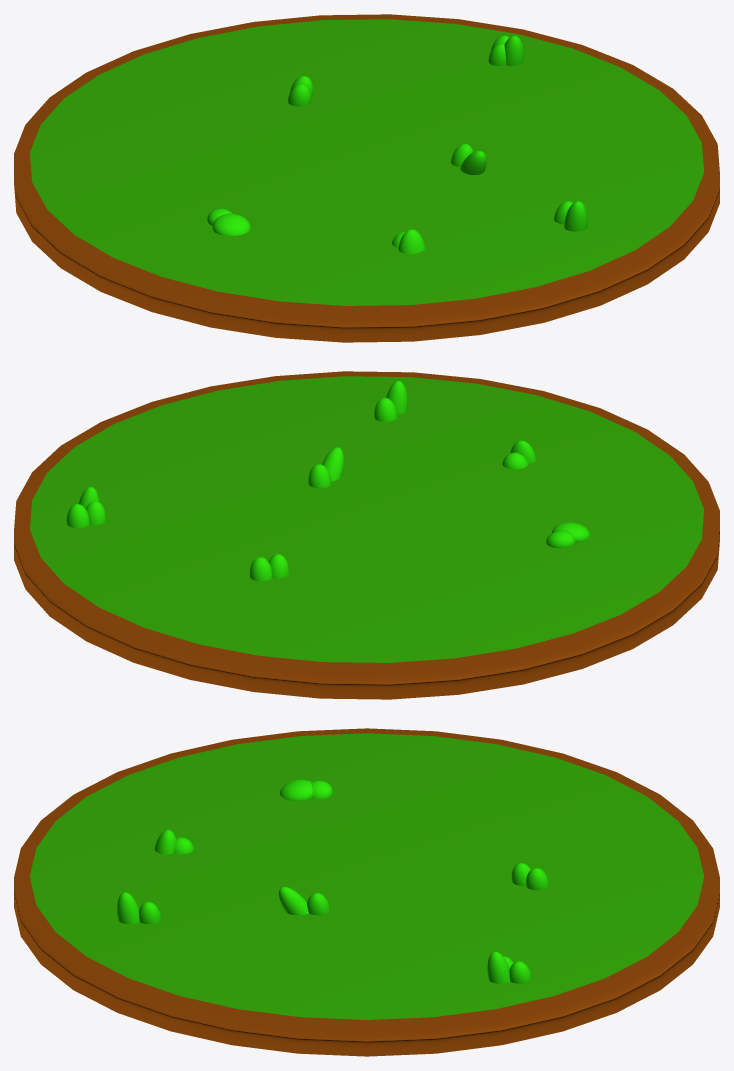
File: just_a_platfrom.glb
3 views of the same model, one above another, from view 1: azimuth 30°, elevation 25°; view 2: azimuth 150°, elevation 25°; view 3: azimuth 270°, elevation 25° (orthographic).
Visible parts, largest first — view 1: Cylinder.001, Cylinder, Sphere.008, Sphere, Sphere.005; view 2: Cylinder.001, Cylinder, Sphere.011; view 3: Cylinder.001, Cylinder, Sphere.011, Sphere.002, Sphere, Sphere.008.
Part boxes in pixels (bbox=[...]): Cylinder.001: bbox=[30, 19, 703, 305]; Cylinder: bbox=[14, 14, 719, 342]; Sphere.008: bbox=[212, 213, 250, 236]; Sphere: bbox=[564, 201, 587, 231]; Sphere.005: bbox=[398, 229, 425, 253]; Cylinder.001: bbox=[30, 376, 703, 662]; Cylinder: bbox=[14, 371, 719, 699]; Sphere.011: bbox=[322, 447, 344, 481]; Cylinder.001: bbox=[30, 733, 703, 1019]; Cylinder: bbox=[14, 728, 719, 1056]; Sphere.011: bbox=[278, 886, 308, 915]; Sphere.002: bbox=[487, 951, 510, 983]; Sphere: bbox=[117, 892, 139, 924]; Sphere.008: bbox=[280, 779, 312, 801].
Size of the model in its own units: 14.59 by 1.37 by 14.59.
